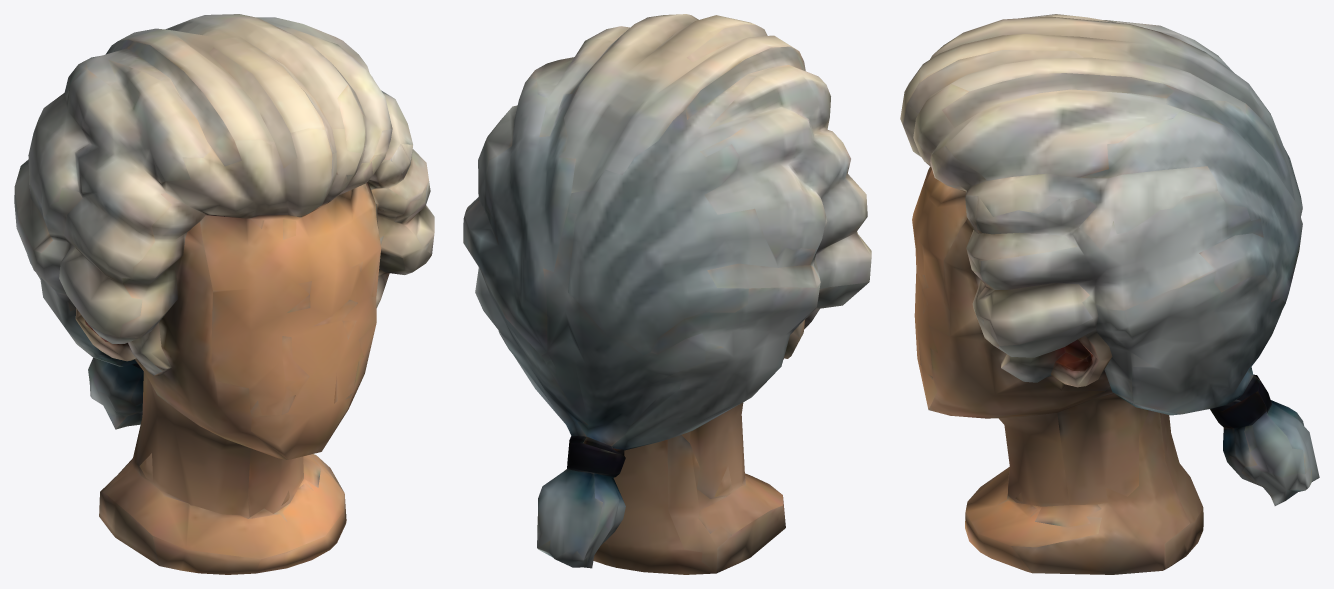
Rendered from wig-louis15-v2.glb.
The picture shows the model from 3 angles, left to right: view 1: azimuth 30°, elevation 25°; view 2: azimuth 150°, elevation 25°; view 3: azimuth 270°, elevation 25°; orthographic projection. The views are drawn at different scales.
Visible parts, largest first — view 1: material.001; view 2: material.001; view 3: material.001.
Part boxes in pixels (x1,y1,x2,y2): material.001: (14, 14, 434, 574); material.001: (463, 14, 871, 574); material.001: (900, 14, 1319, 574).
Bounding box in the file's own units: 0.7863 × 1.06 × 0.8231.
1 material, 1 textured.
